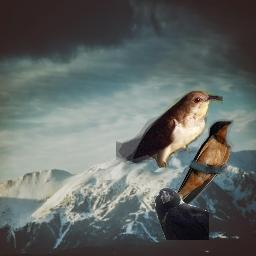Crow: (154, 187, 209, 240)
Cuckoo: (116, 90, 223, 168)
Swallow: (154, 118, 235, 223)
